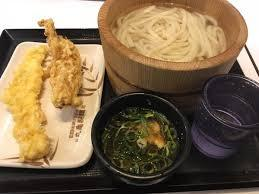kamaage: (92, 1, 255, 102)
